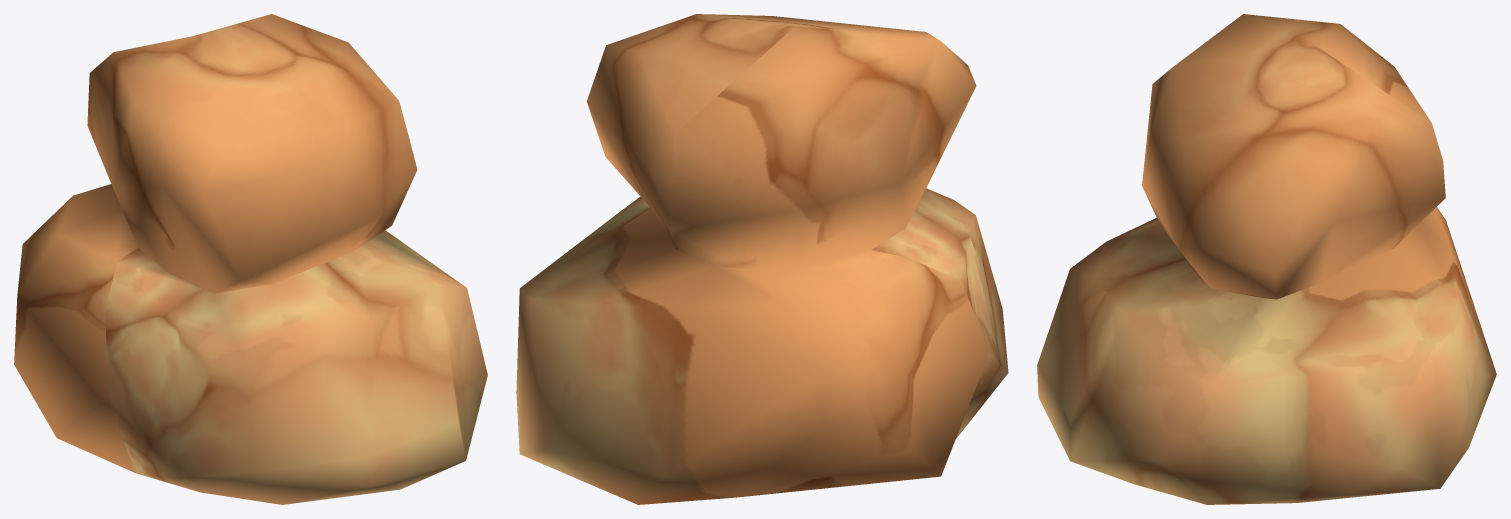
File: Subrock_7.fbx
The picture shows the model from 3 angles, left to right: view 1: azimuth 30°, elevation 25°; view 2: azimuth 150°, elevation 25°; view 3: azimuth 270°, elevation 25°; orthographic projection. The views are drawn at different scales.
Parts seen in each view (by area): view 1: Rock_7_LOD0; view 2: Rock_7_LOD0; view 3: Rock_7_LOD0.
Boxes of the visible parts, x1=… form: Rock_7_LOD0: x1=14, y1=14, x2=487, y2=504; Rock_7_LOD0: x1=516, y1=14, x2=1008, y2=504; Rock_7_LOD0: x1=1037, y1=14, x2=1496, y2=504.
Size of what is drawn, in the model's own units: 46.54 by 47.54 by 54.08.
